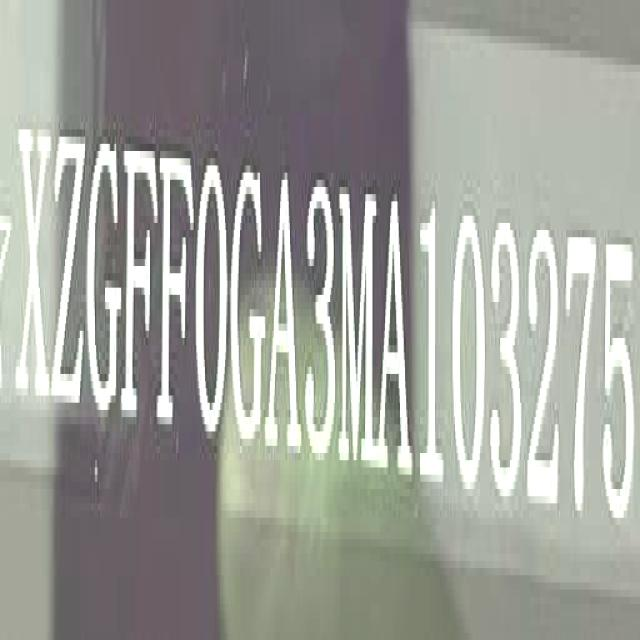0: (450, 208, 483, 504), (198, 153, 230, 451)
1: (418, 194, 440, 492)
2: (529, 224, 563, 518)
3: (491, 219, 525, 513), (306, 175, 337, 472)
5: (604, 243, 638, 533)
7: (566, 227, 596, 526)
A: (270, 165, 301, 468), (382, 187, 412, 489)
F: (161, 145, 194, 441), (126, 139, 158, 434)
G: (230, 163, 264, 461), (88, 131, 122, 422)
M: (340, 175, 379, 474)
X: (18, 115, 49, 410)
Z: (51, 123, 82, 417)
